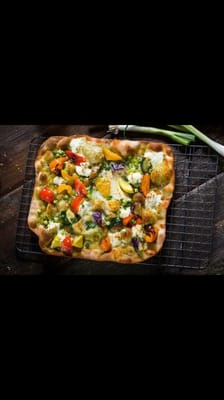curry: (0, 123, 224, 319)
sandwich: (27, 135, 175, 264)
